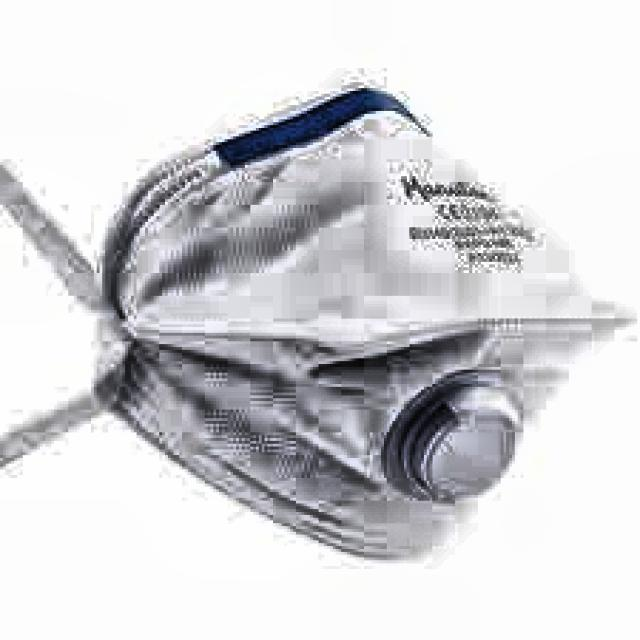trash: (58, 76, 615, 570)
